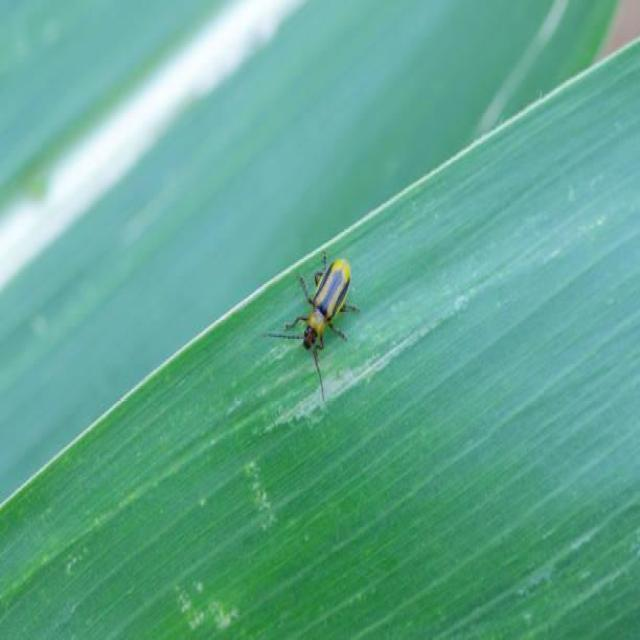trips: (262, 250, 360, 402)
